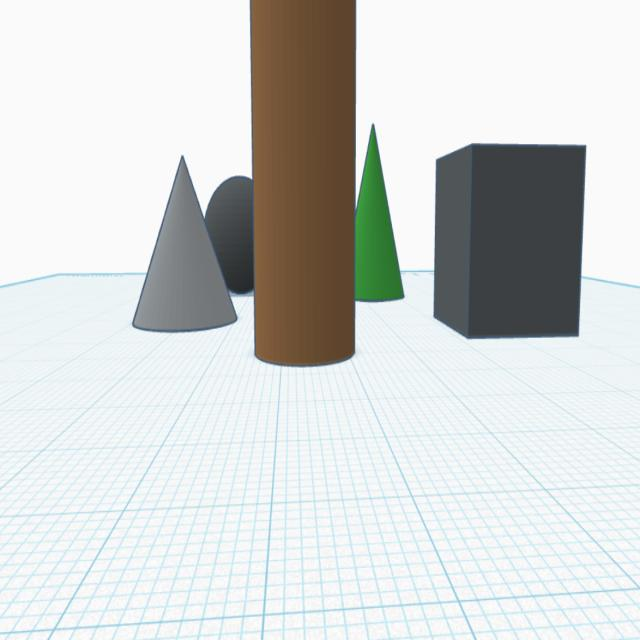cone: (128, 149, 240, 337)
cube: (431, 138, 588, 344)
